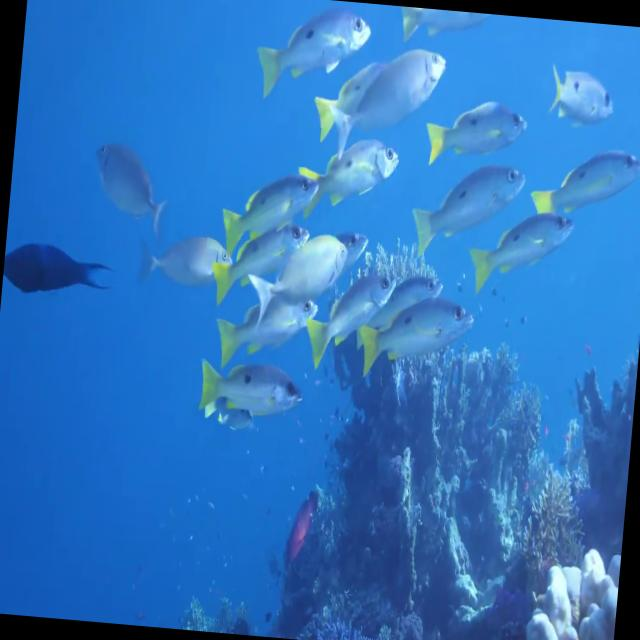fish: (329, 41, 446, 162), (356, 289, 476, 393), (410, 156, 526, 262), (255, 4, 372, 104), (466, 200, 574, 302), (208, 210, 312, 308), (306, 264, 396, 370), (294, 132, 402, 220), (245, 230, 346, 321), (534, 144, 640, 224), (87, 140, 173, 236), (356, 268, 446, 358), (222, 168, 318, 248), (429, 95, 528, 166), (137, 226, 236, 293), (1, 240, 110, 298), (201, 360, 304, 420)
